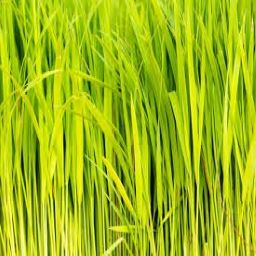grass: (2, 5, 249, 250)
